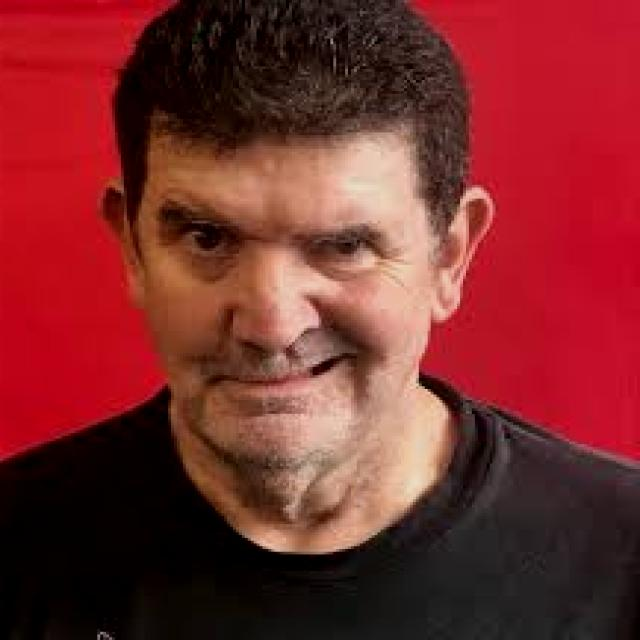stroke_face: (117, 15, 460, 494)
